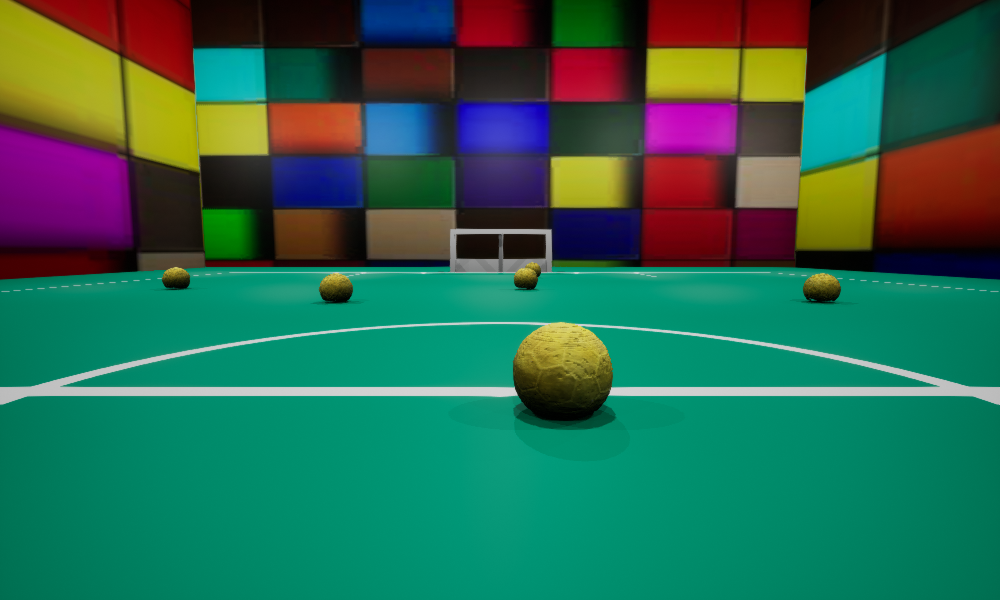b: (513, 322, 612, 419), (803, 273, 840, 302), (319, 273, 352, 302), (162, 267, 189, 288), (514, 268, 537, 289), (525, 262, 540, 276)
g: (450, 229, 551, 271)
